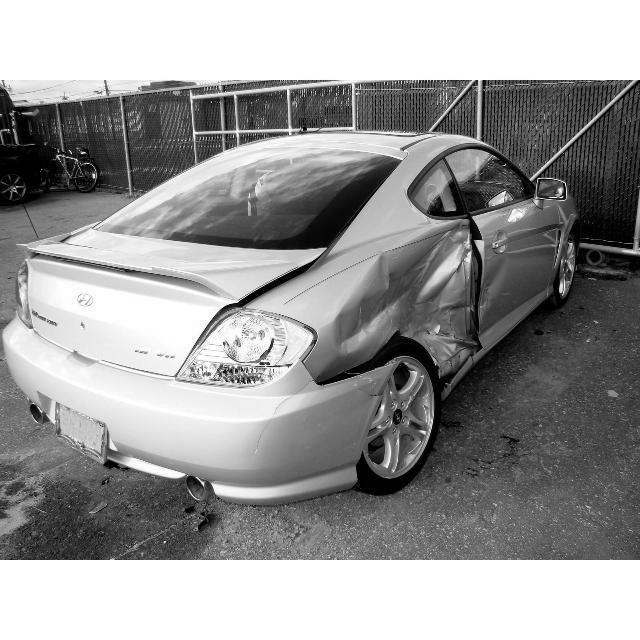doorouter-dent: (471, 185, 565, 320)
quaterpanel-dent: (292, 240, 478, 398)
